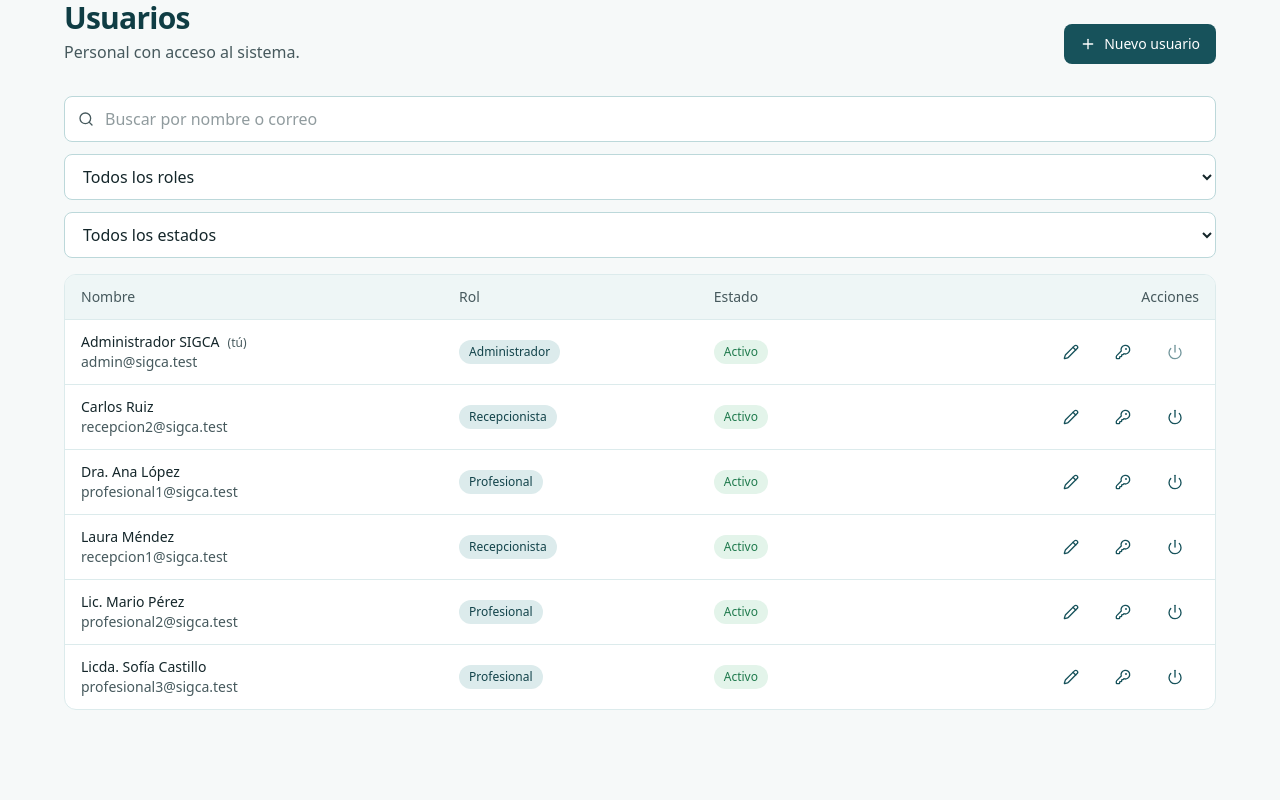
Test: Usuarios › editar: carga los datos actuales, no pide contraseña y envía solo nombre, correo y rol
The width and height of the screenshot is (1280, 800).
Click the button named "Editar a Laura Méndez" at (1071, 547), box [1047, 529, 1095, 565]
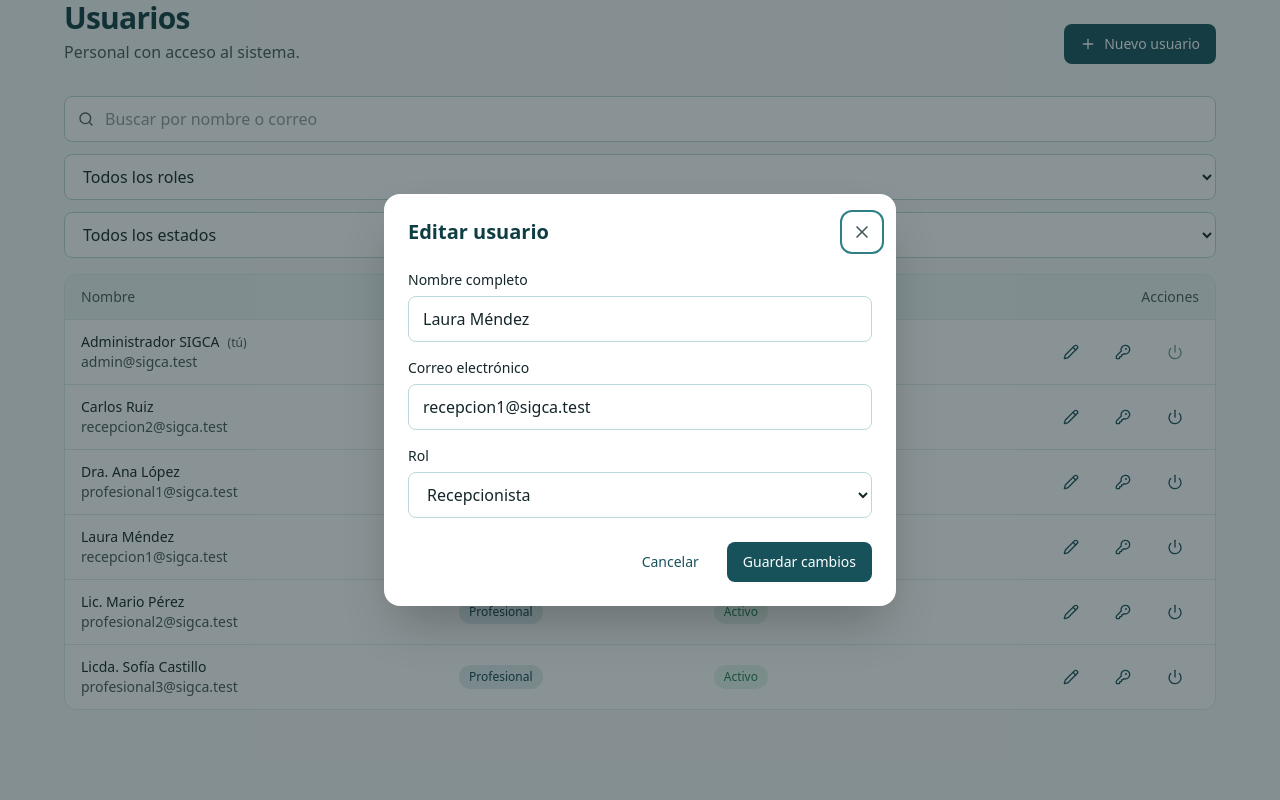
Expected: the field labelled "Nombre completo" holds "Laura Méndez"
Replace the text in the field labelled "Nombre completo" with "Laura M. Méndez" at (640, 319), box [408, 296, 872, 342]
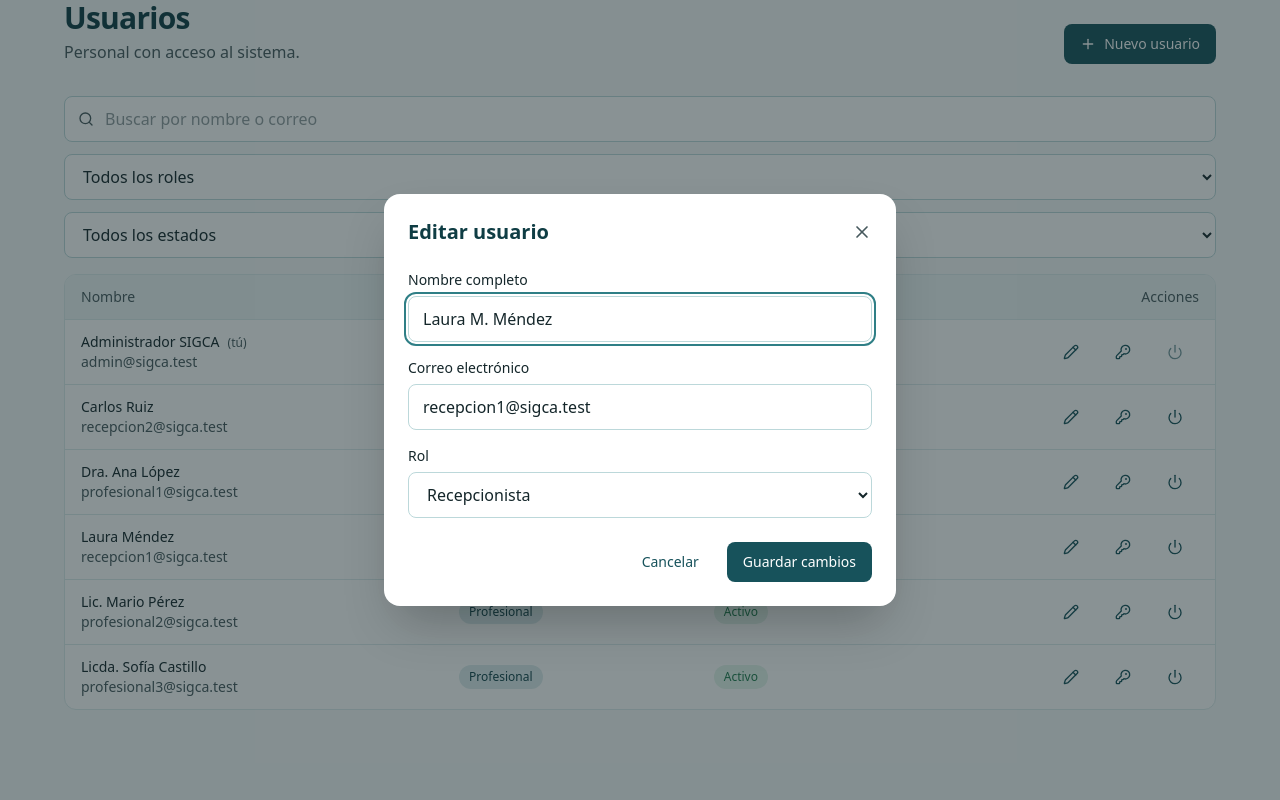
Click the button "Guardar cambios" at (799, 562), box [727, 542, 872, 582]
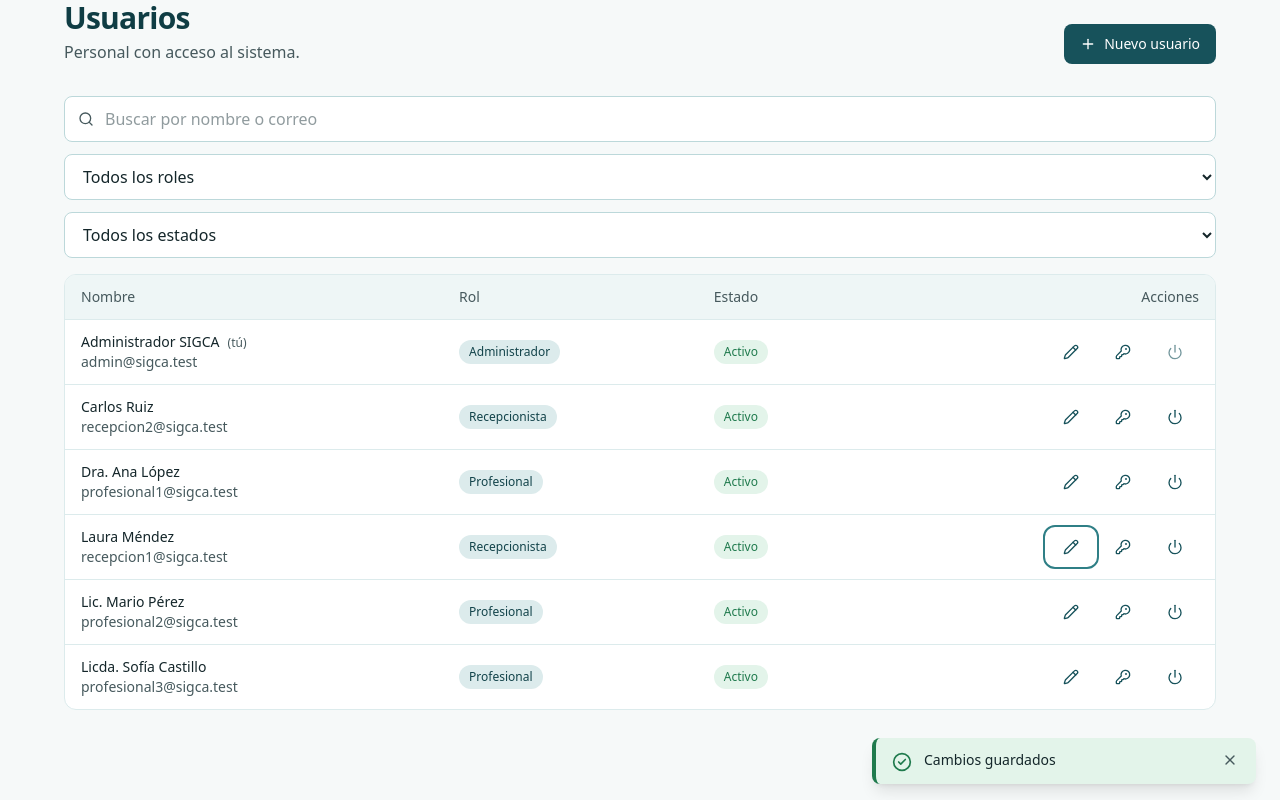
Expected: the text "Cambios guardados" is shown, [924, 750, 1056, 769]
